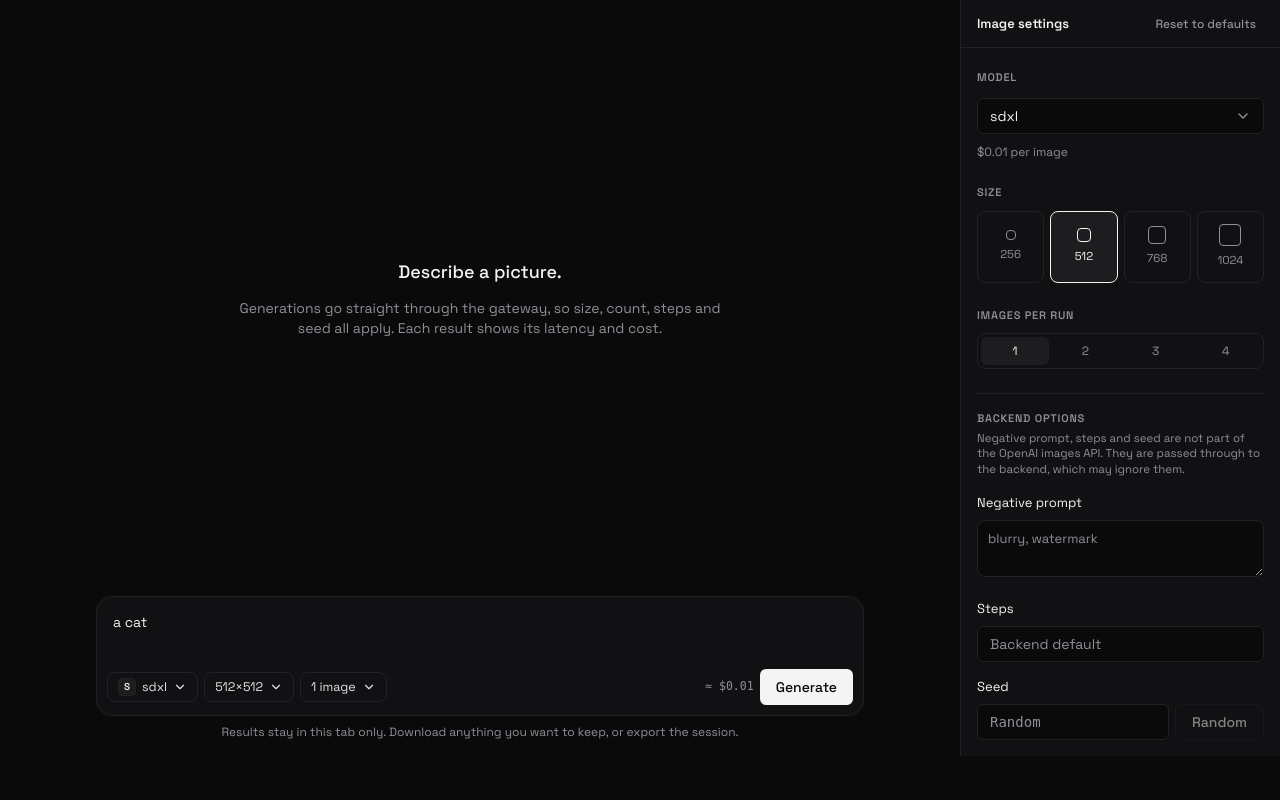
Test: ImageWorkspace › renders the result with its model, latency, and cost
Click the button with id "image-generate" at coordinates (806, 687), box [760,669,853,705]
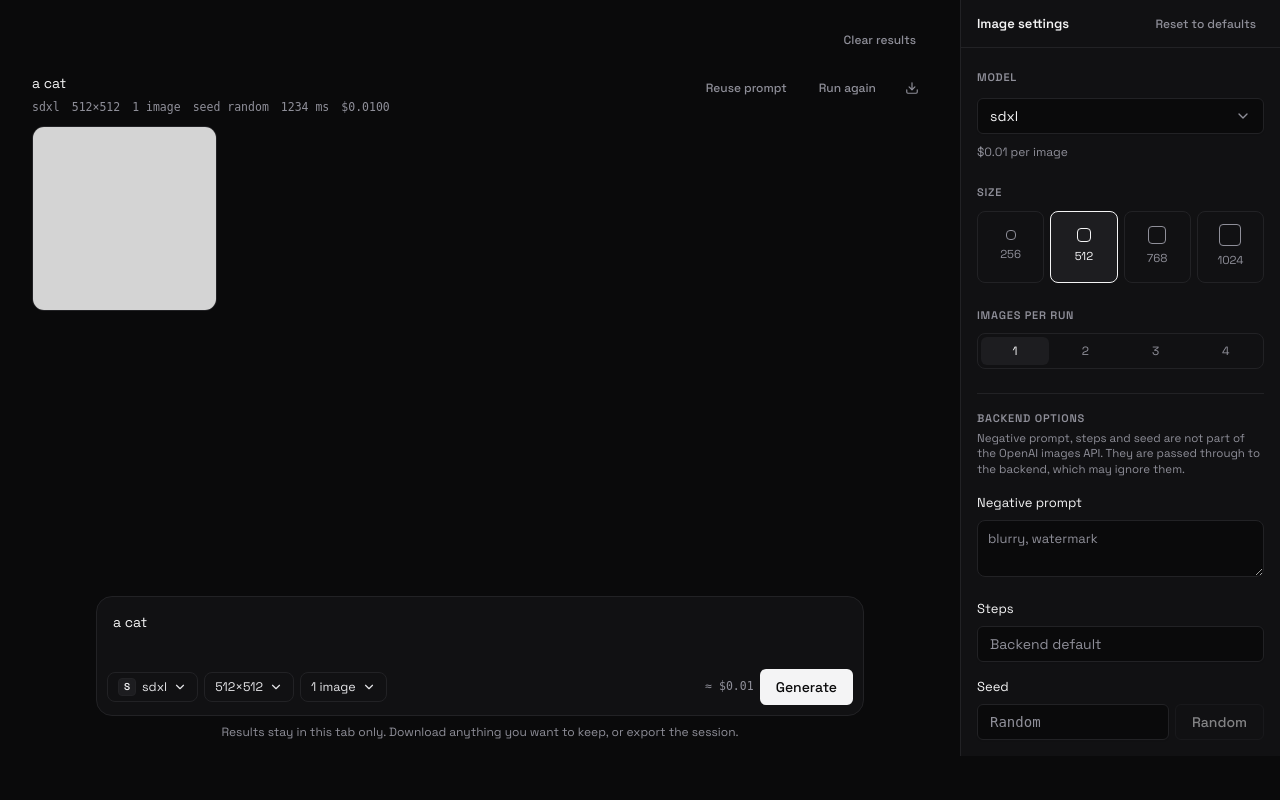
Expected: the text "sdxl" is shown, [32,99,60,116]
Expected: the text "1234" is shown, [281,100,308,114]
